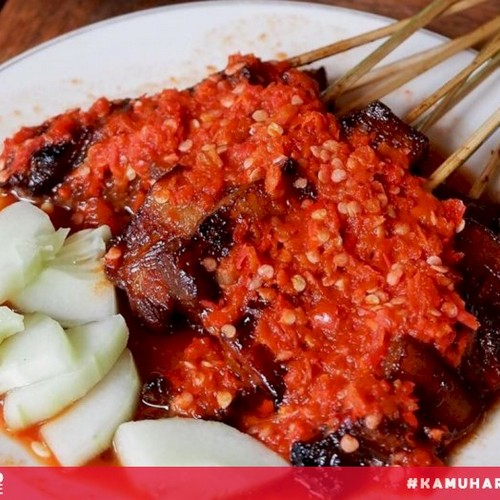sate plecing: (13, 117, 440, 266), (226, 205, 448, 461)
